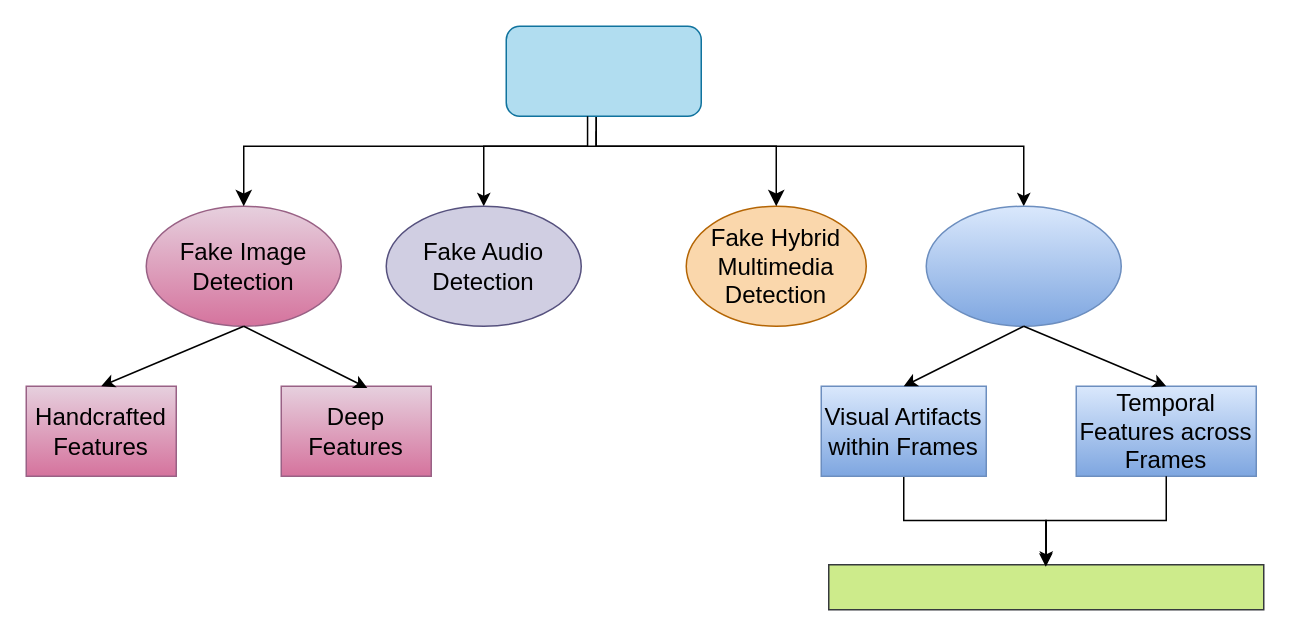
This 1290x636 diagram has some shape labels left out. Each missing label, with the centre of its shape:
"Deepfake Detection" goes at point (603, 70).
"Fake Video Detection" goes at point (1023, 265).
"The paper is addressing this category" goes at point (1045, 586).
